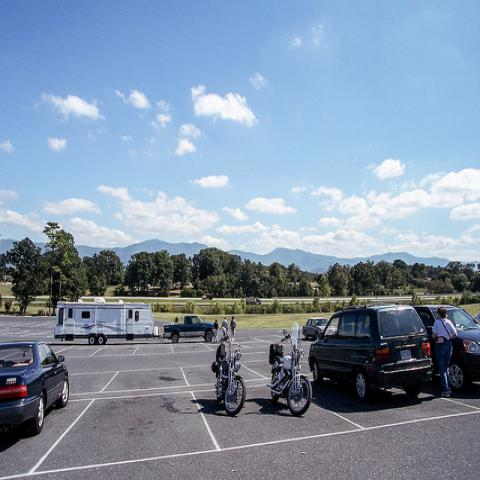car: (308, 304, 434, 404), (1, 340, 70, 432), (416, 306, 480, 392), (301, 316, 328, 339)
motorcycle: (264, 319, 314, 419), (212, 327, 246, 416)
truck: (162, 315, 214, 343), (202, 294, 213, 300)
